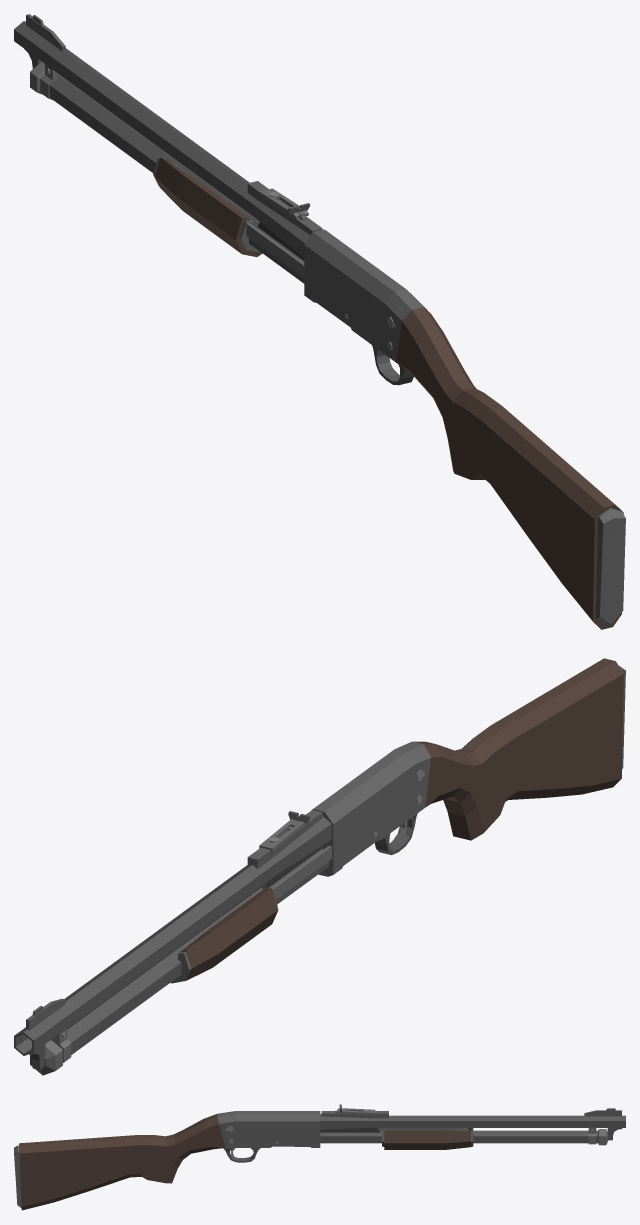
3 views of the same model, one above another, from view 1: azimuth 30°, elevation 25°; view 2: azimuth 150°, elevation 25°; view 3: azimuth 270°, elevation 25° (orthographic). The views are drawn at different scales.
Visible parts, largest first — view 1: ithaca-m37; view 2: ithaca-m37; view 3: ithaca-m37.
Boxes of the visible parts, bbox=[...] form: ithaca-m37: bbox=[14, 14, 625, 629]; ithaca-m37: bbox=[14, 658, 625, 1075]; ithaca-m37: bbox=[14, 1104, 625, 1210].
Size of the model in its own units: 0.0417 by 0.1842 by 1.
